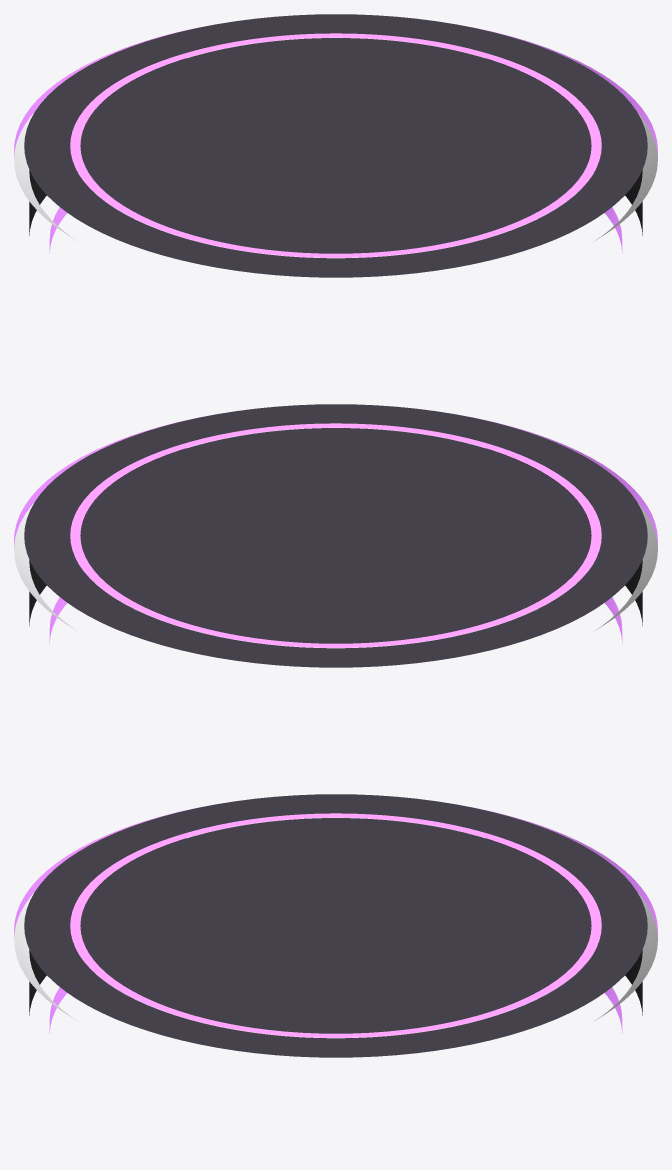
The model's file is podium_violet.glb.
3 renders of one model, top to bottom at view 1: azimuth 30°, elevation 25°; view 2: azimuth 150°, elevation 25°; view 3: azimuth 270°, elevation 25°, orthographic.
Visible parts, largest first — view 1: p8, p6, p7, p3, p4, p2; view 2: p8, p6, p7, p3, p4, p2; view 3: p8, p6, p7, p3, p4, p2.
Boxes of the visible parts, left/top/right/bottom form: p8: left=80, top=38, right=591, bottom=253; p6: left=24, top=14, right=647, bottom=277; p7: left=70, top=33, right=601, bottom=257; p3: left=14, top=37, right=657, bottom=240; p4: left=14, top=24, right=657, bottom=157; p2: left=29, top=58, right=642, bottom=235; p8: left=80, top=428, right=591, bottom=643; p6: left=24, top=404, right=647, bottom=667; p7: left=70, top=423, right=601, bottom=647; p3: left=14, top=427, right=657, bottom=630; p4: left=14, top=414, right=657, bottom=547; p2: left=29, top=448, right=642, bottom=625; p8: left=80, top=818, right=591, bottom=1033; p6: left=24, top=794, right=647, bottom=1057; p7: left=70, top=813, right=601, bottom=1037; p3: left=14, top=817, right=657, bottom=1020; p4: left=14, top=804, right=657, bottom=937; p2: left=29, top=838, right=642, bottom=1015.
Bounding box in the file's own units: 2.52 × 0.471 × 2.52.
